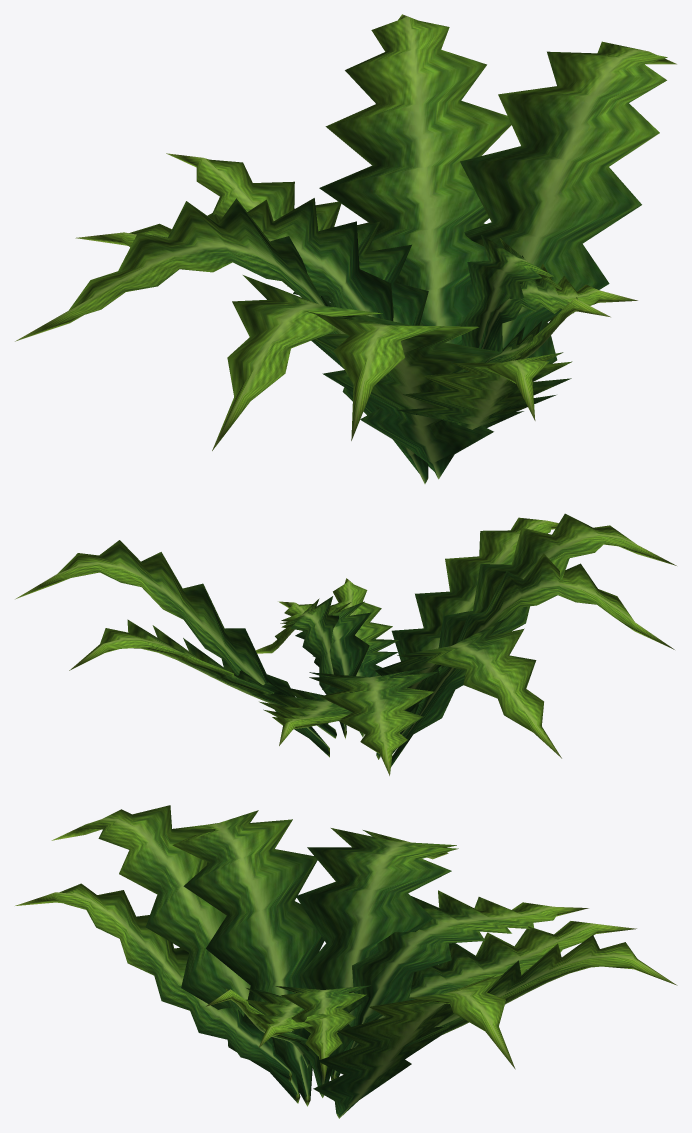
Rendered from fern_patch.glb.
3 views of the same model, one above another, from view 1: azimuth 30°, elevation 25°; view 2: azimuth 150°, elevation 25°; view 3: azimuth 270°, elevation 25° (orthographic). The views are drawn at different scales.
Visible parts, largest first — view 1: fern_patch; view 2: fern_patch; view 3: fern_patch.
Boxes of the visible parts, <box> form: fern_patch: <box>15,14,676,483</box>; fern_patch: <box>15,513,676,775</box>; fern_patch: <box>15,805,677,1118</box>.
Bounding box in the file's own units: 0.8008 × 0.3082 × 0.8108.
Materials: 1 (1 with a texture image).
